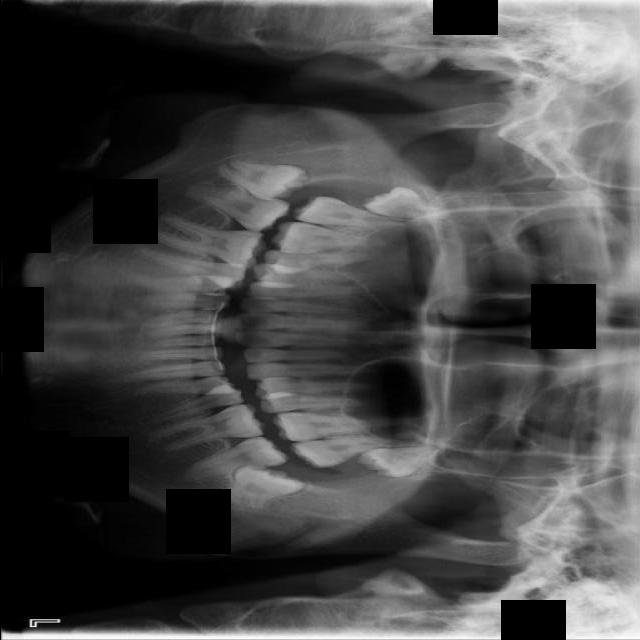3M ESPE Implant: (360, 181, 450, 224)
73: (12, 624, 18, 628)
BioHorizons Implant: (286, 432, 416, 470)
BioLife Implant: (355, 441, 455, 482)
Biomet 3i Implant: (221, 461, 306, 514)
Blue Sky Bio Implant: (176, 431, 289, 486)
Caries: (290, 190, 426, 246)
Implant: (183, 178, 291, 239)
Keystone Dental Implant: (213, 156, 310, 205)
